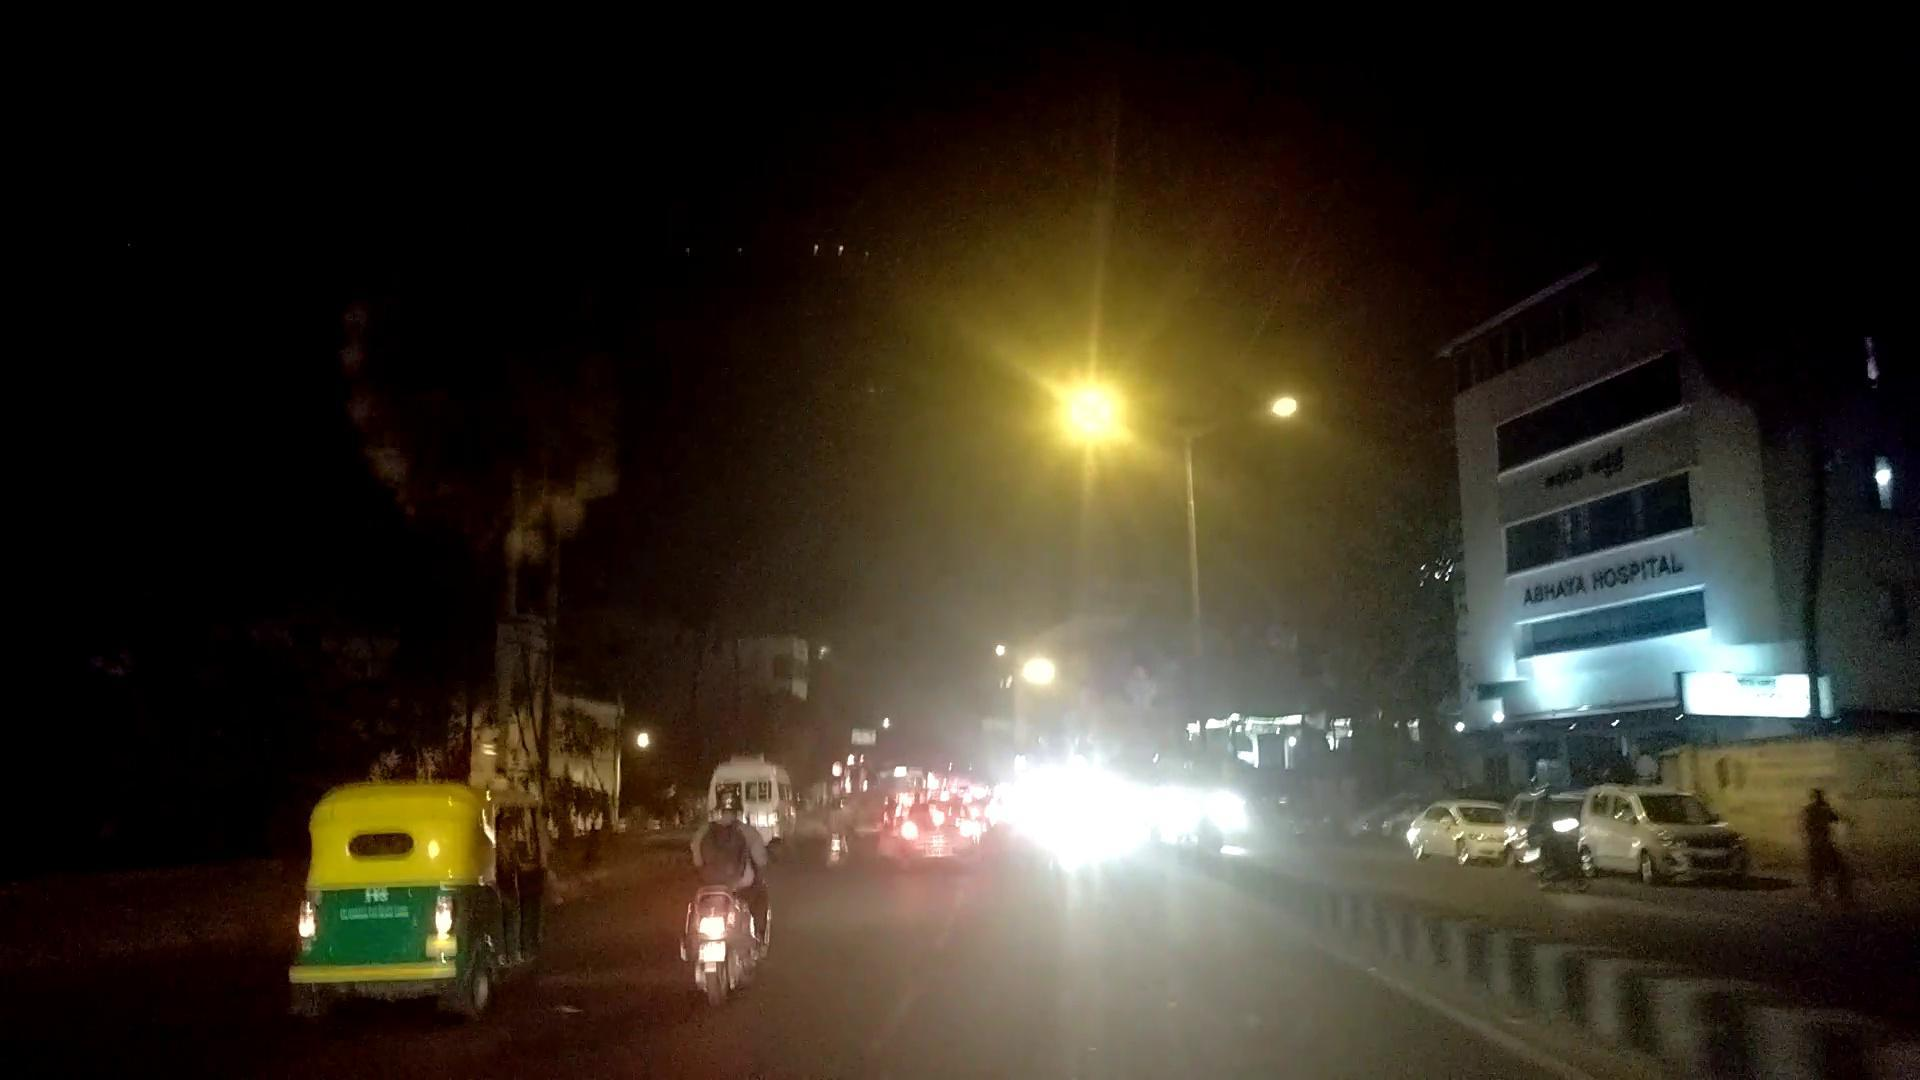on: (1010, 222, 1358, 506)
